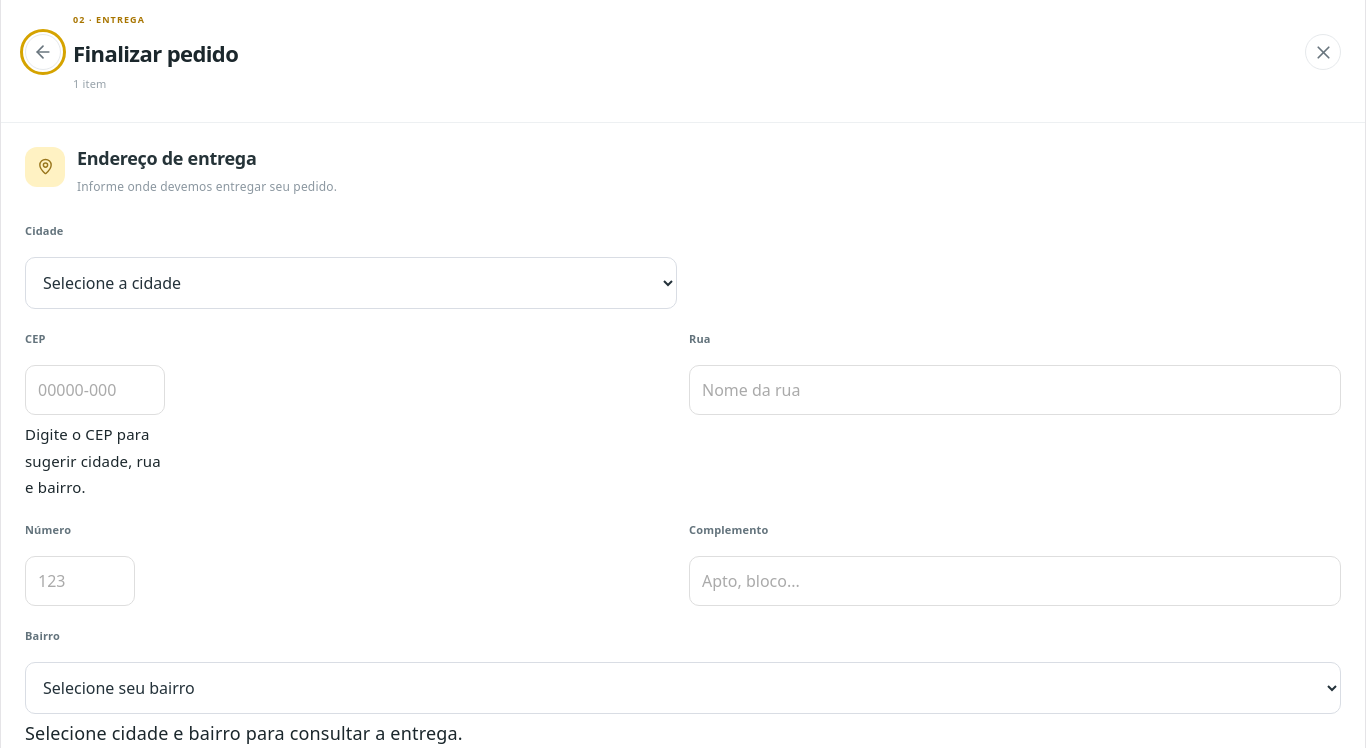
Scenario: permite preenchimento manual quando CEP não responde
Type "79300100" into the field labelled "CEP". click: x=95, y=390
box: [25,365,165,415]
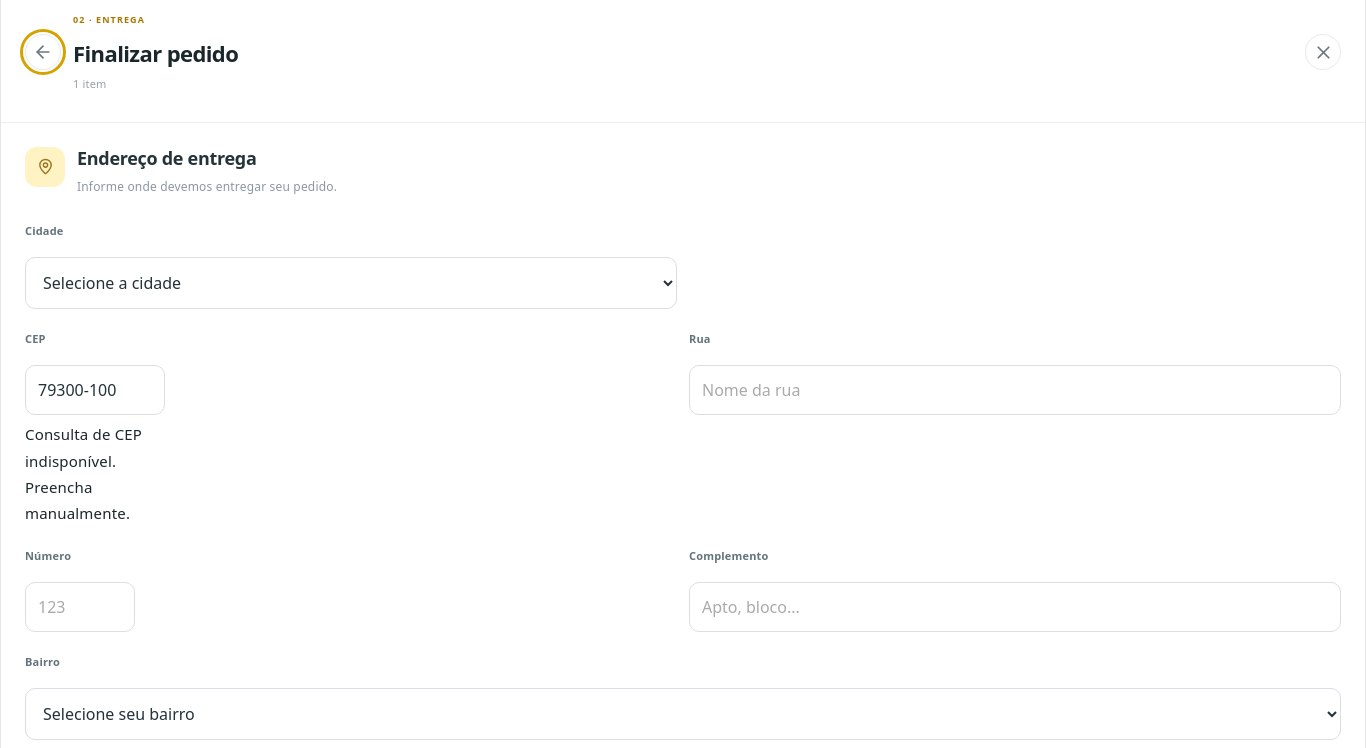
Expected: the text "Consulta de CEP indisponível. Preencha manualmente." is shown, [25,424,142,523]
Select "Corumbá-MS" in the dropdown labelled "Cidade". click: x=351, y=283
box: [25,257,677,309]
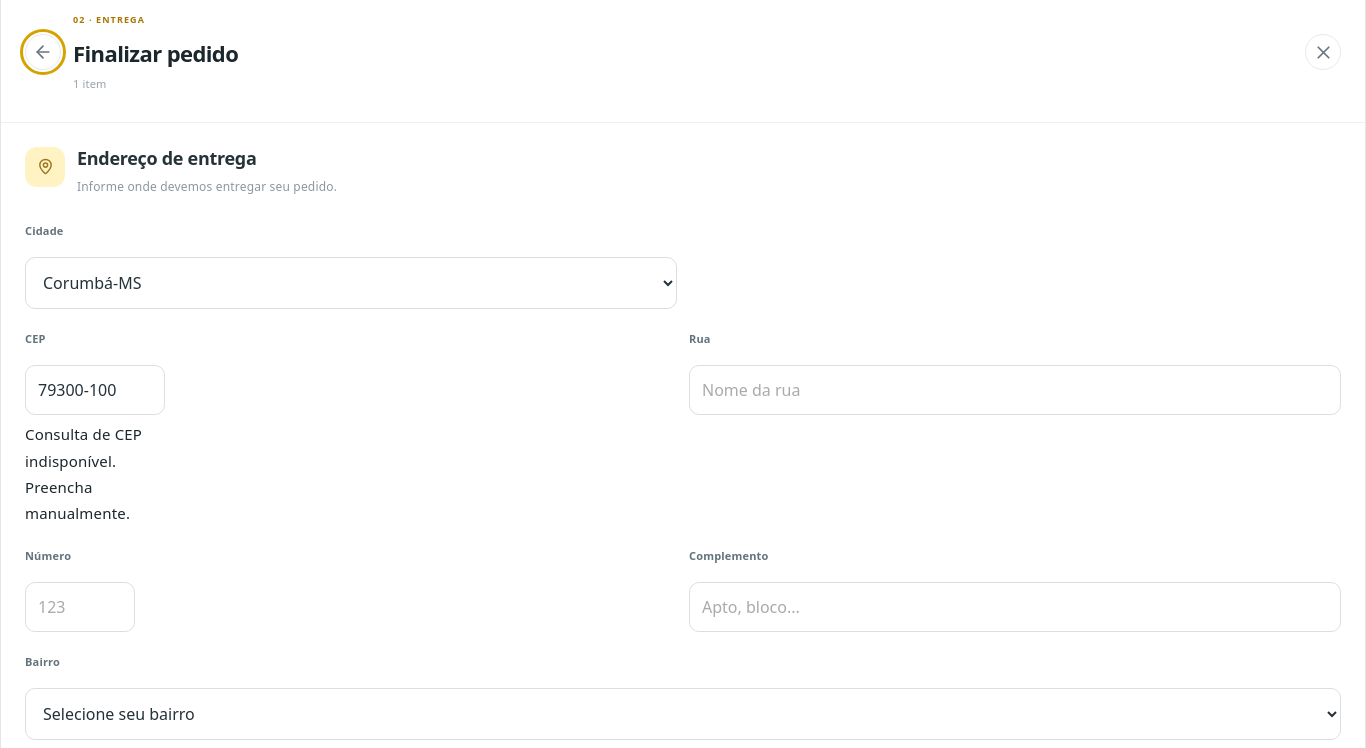
Type "Rua manual" into the field labelled "Rua". click: x=1015, y=390
box: [689,365,1341,415]
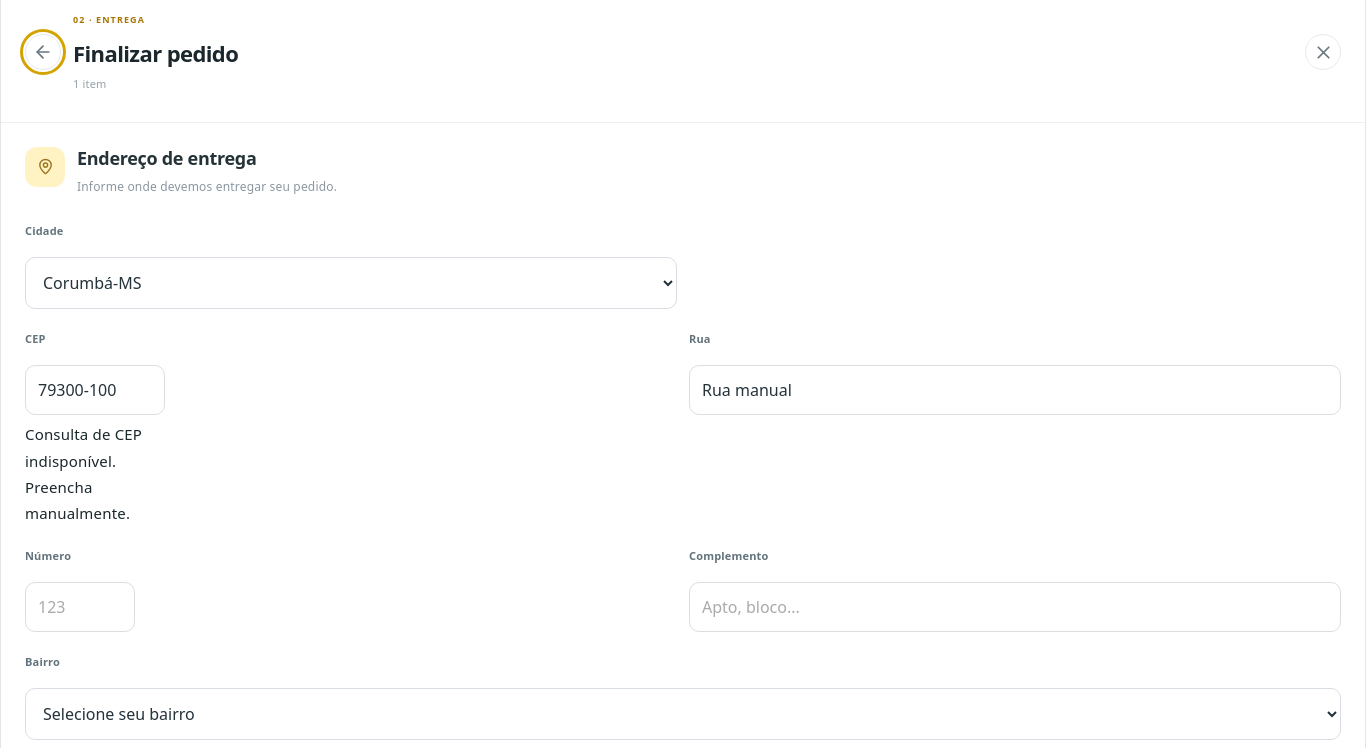
Type "1" into the field labelled "Número". click: x=80, y=607
box: [25,582,135,632]
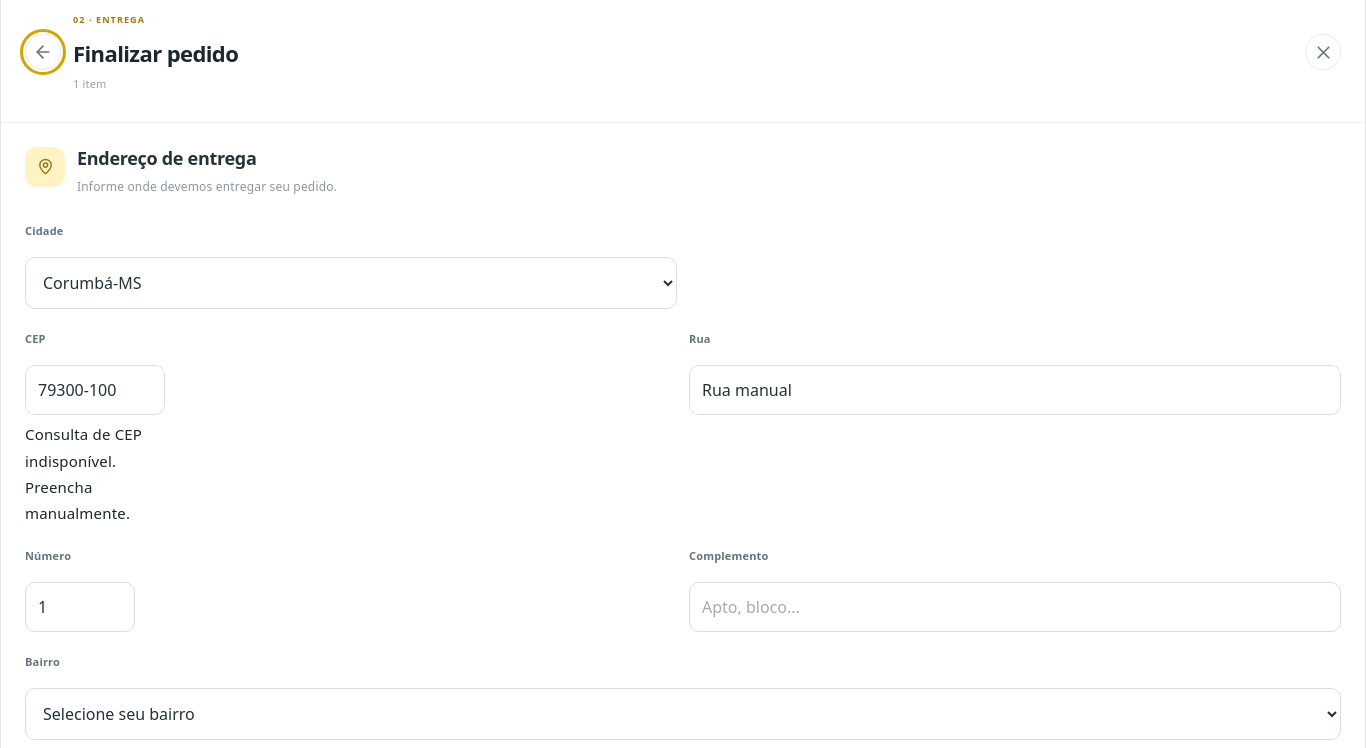
Select "Centro · R$ 5,00" in the dropdown labelled "Bairro". click: x=683, y=714
box: [25,688,1341,740]
(page scrolled)
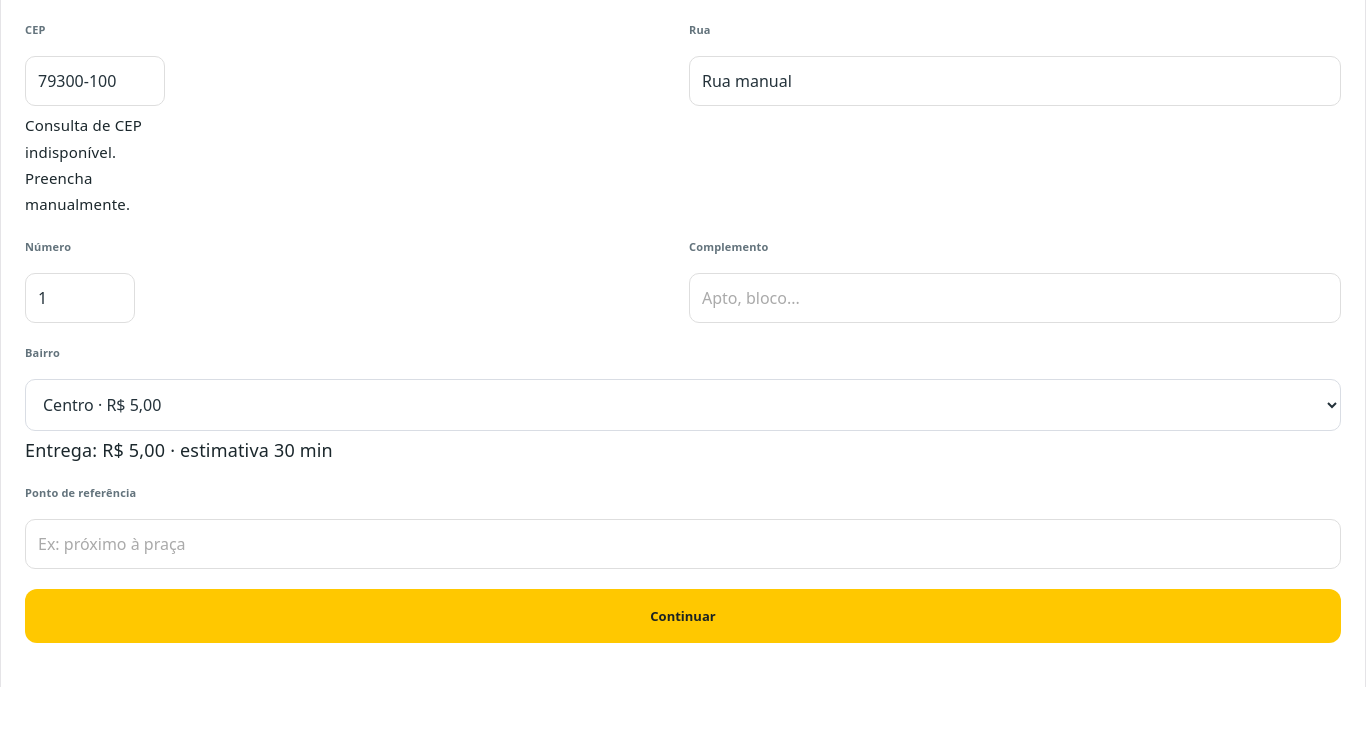
Click the button "Continuar". click: x=683, y=616
box: [25,589,1341,644]
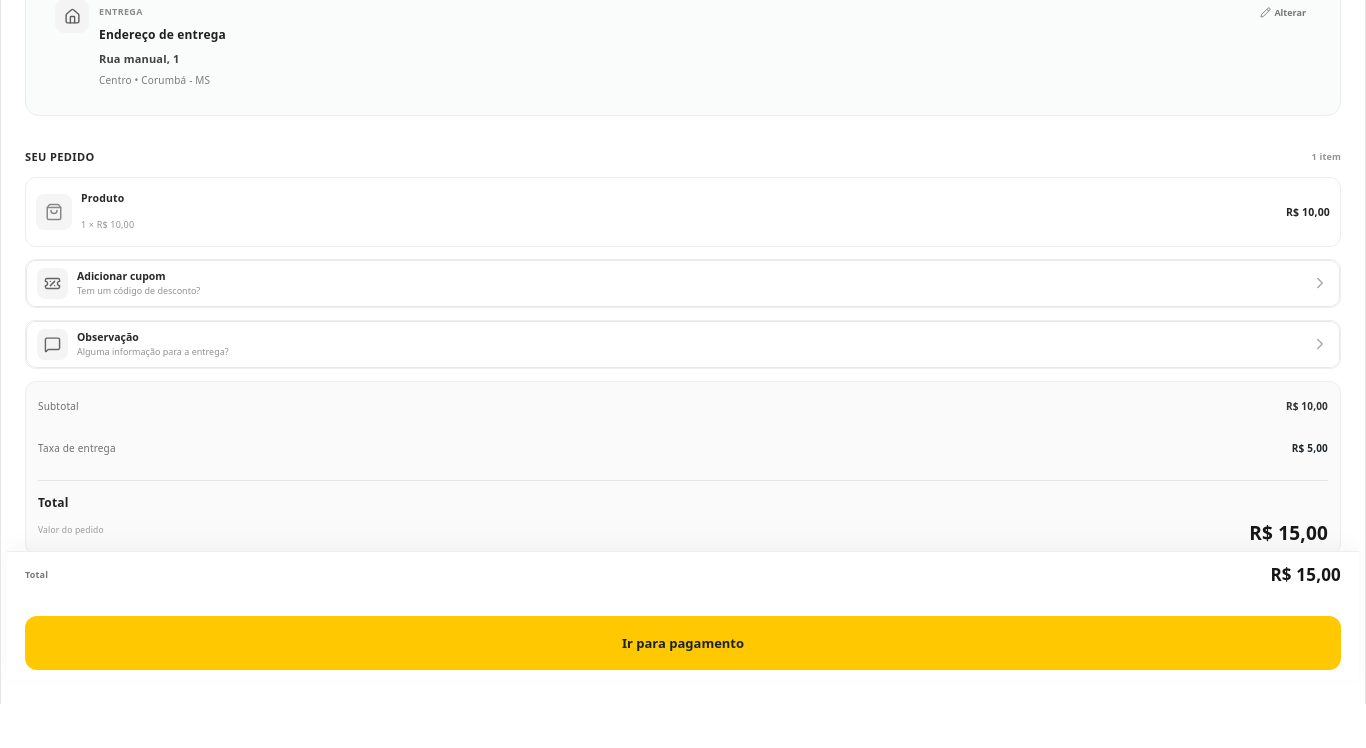
Expected: the button "Ir para pagamento" is shown, [25,616,1341,670]
